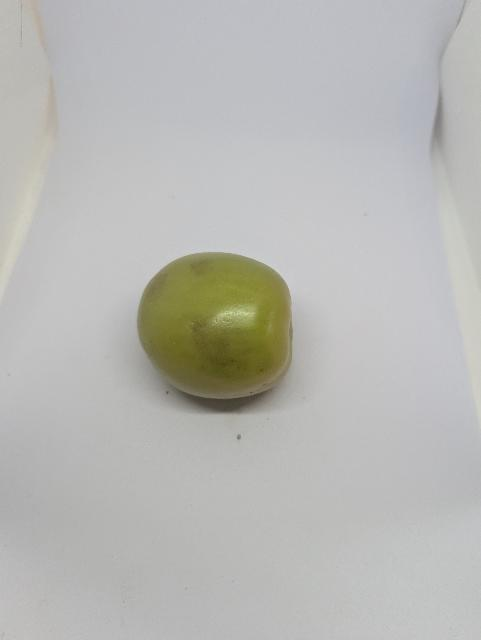green: (128, 243, 302, 405)
